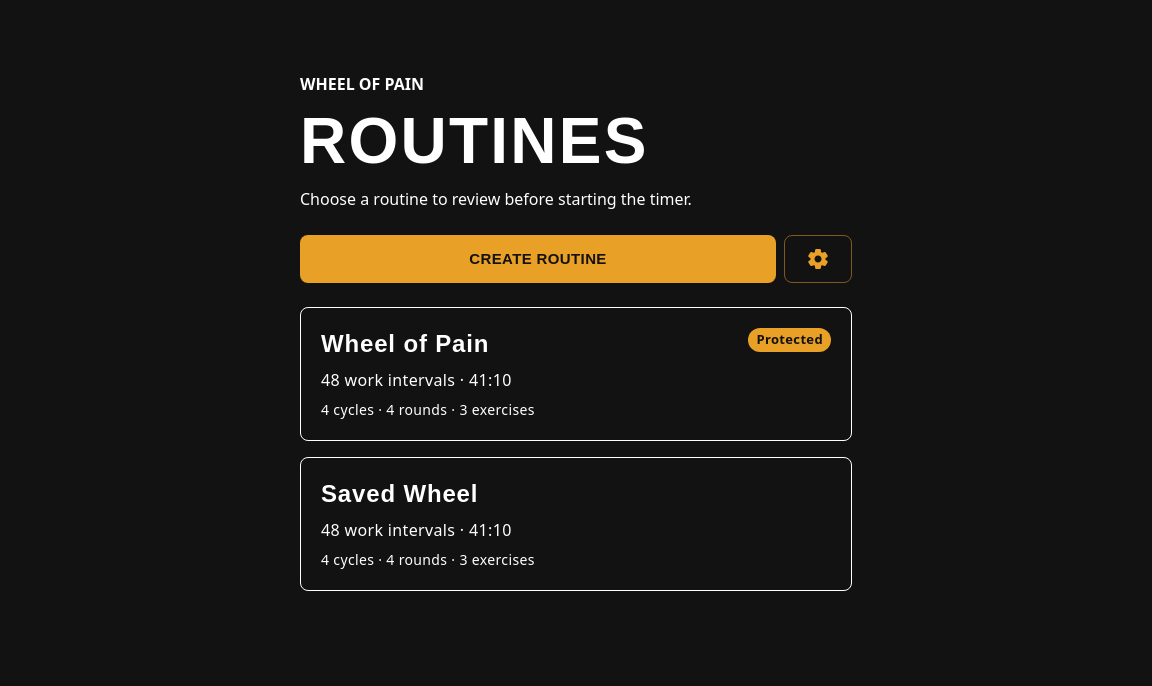
App workout flow › edits and deletes a saved routine with named confirmation
Expected: the heading "Routines" is shown, [300,105,649,177]
Click the button with aria-label "Review Saved Wheel" at (400, 493), box [300,457,852,591]
(page scrolled)
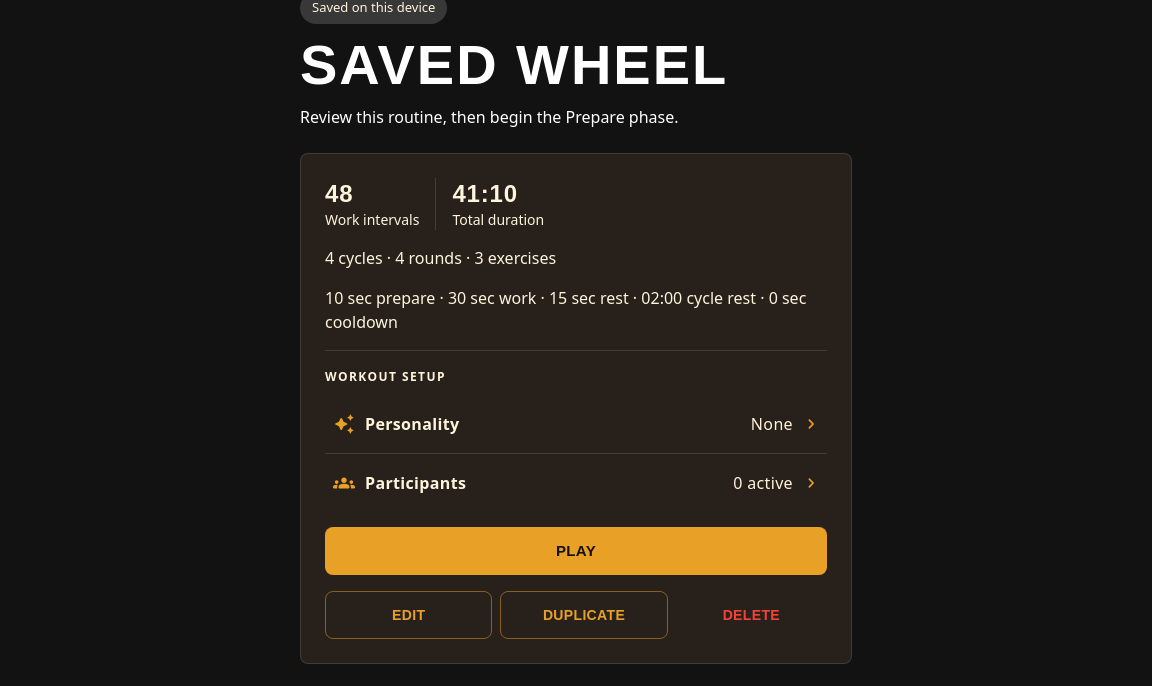
Click the button "Edit" at (409, 615), box [325,591,492,639]
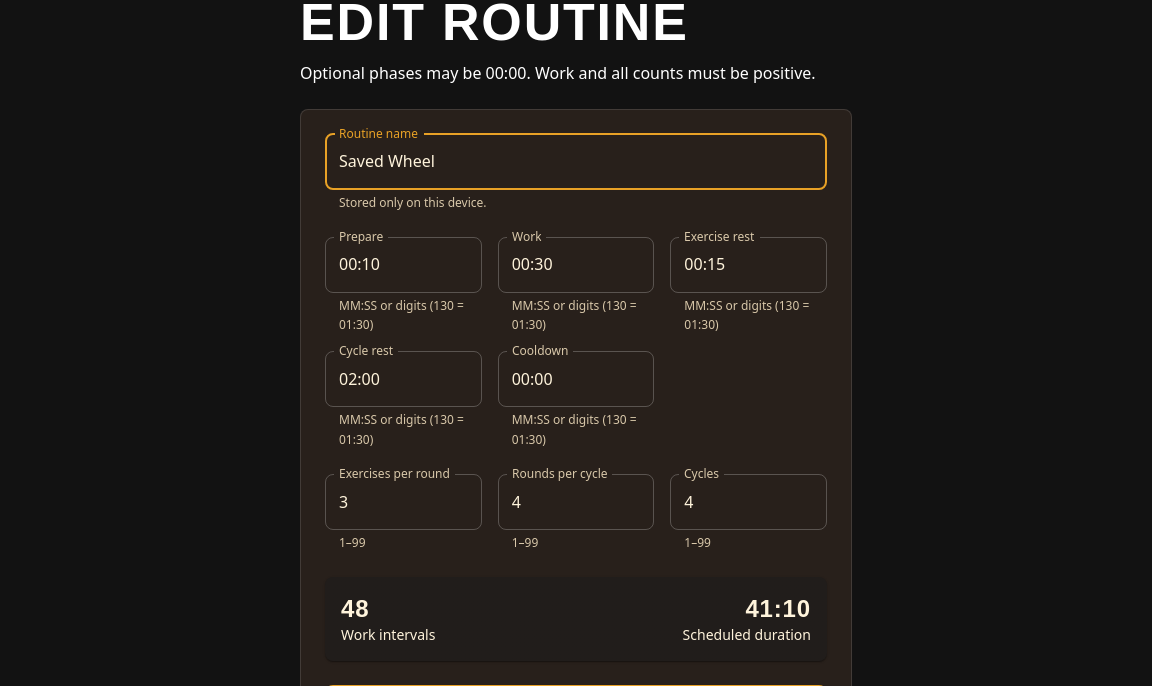
Replace the text in the field labelled "Routine name" with "Updated Wheel" at (576, 162), box [325,134,827,190]
(page scrolled)
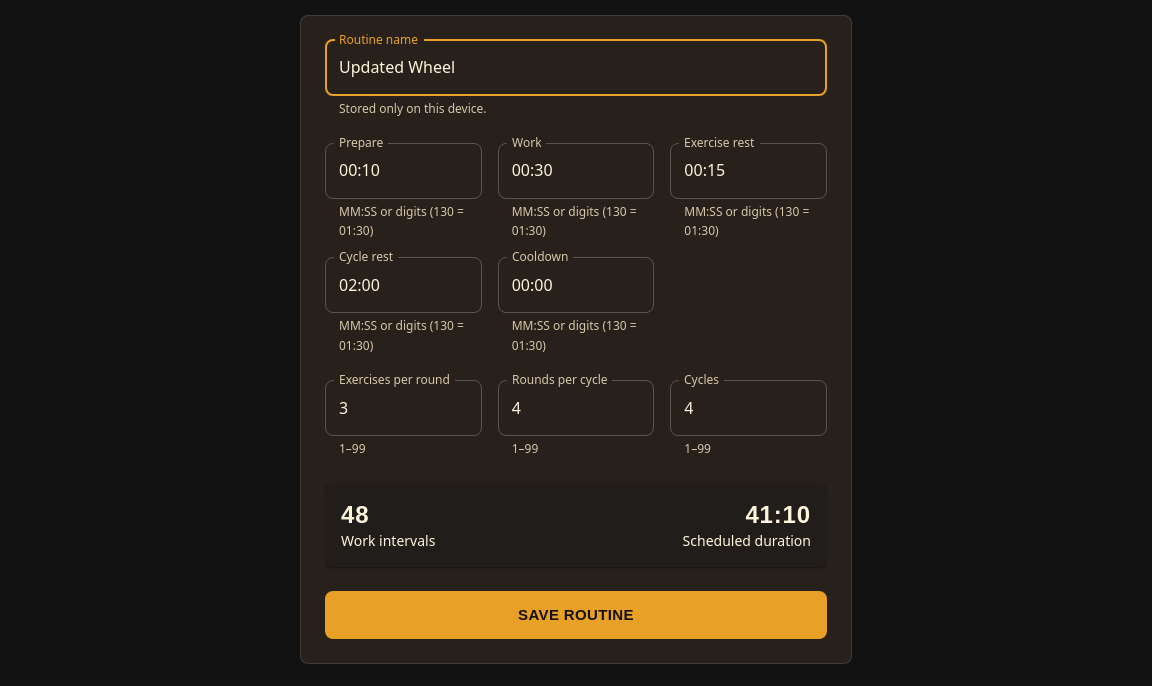
Click the button "Save routine" at (576, 615), box [325,591,827,639]
(page scrolled)
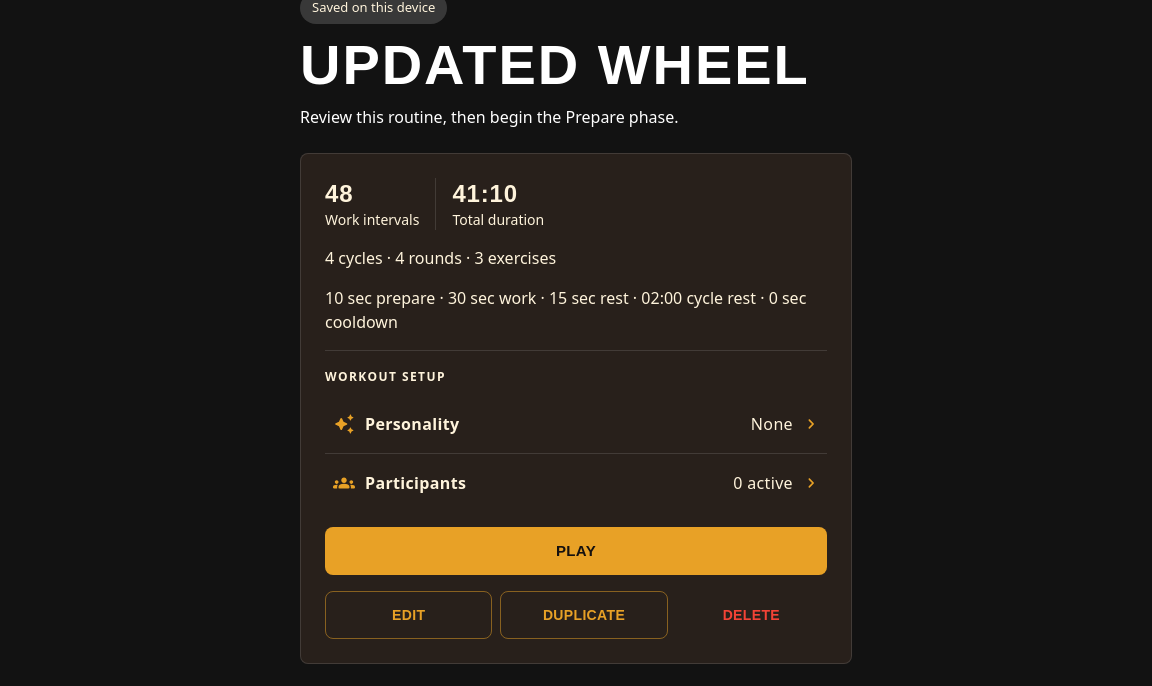
Now the heading "Updated Wheel" is shown, box [300,32,852,97]
Click the button "Delete" at (751, 615), box [676,591,827,639]
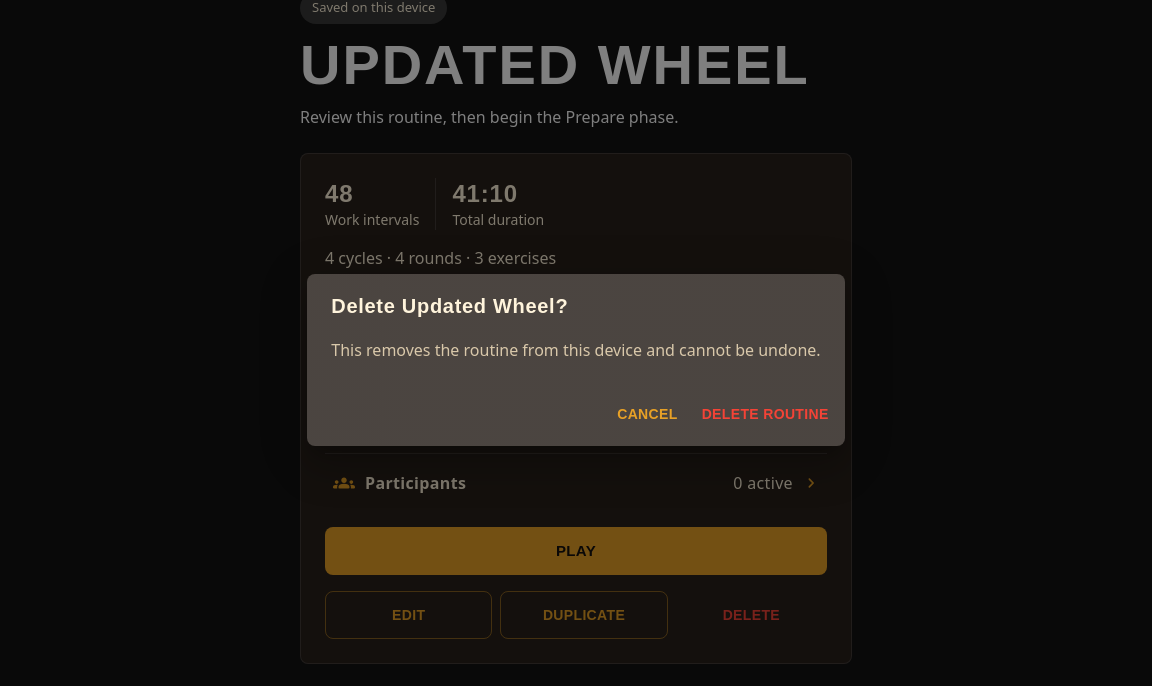
Now the heading "Delete Updated Wheel?" is shown, box [331,295,568,317]
Click the button "Delete routine" at (765, 414), box [694,390,837,438]
(page scrolled)
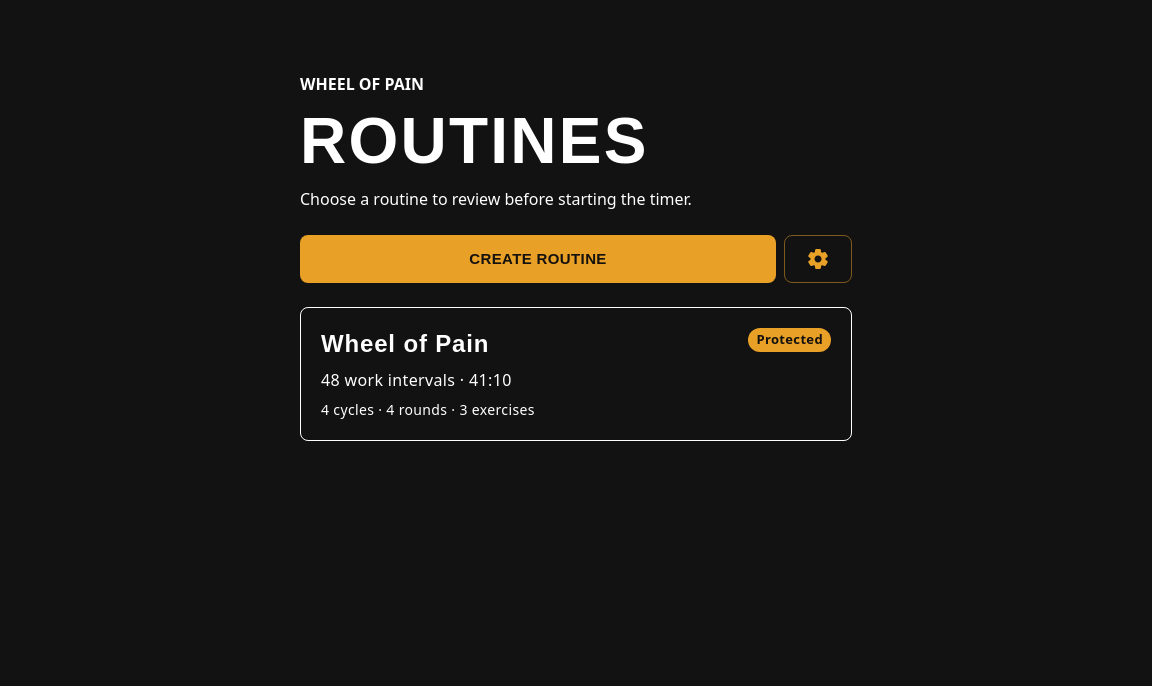
Now the heading "Routines" is shown, box [300,105,649,177]
